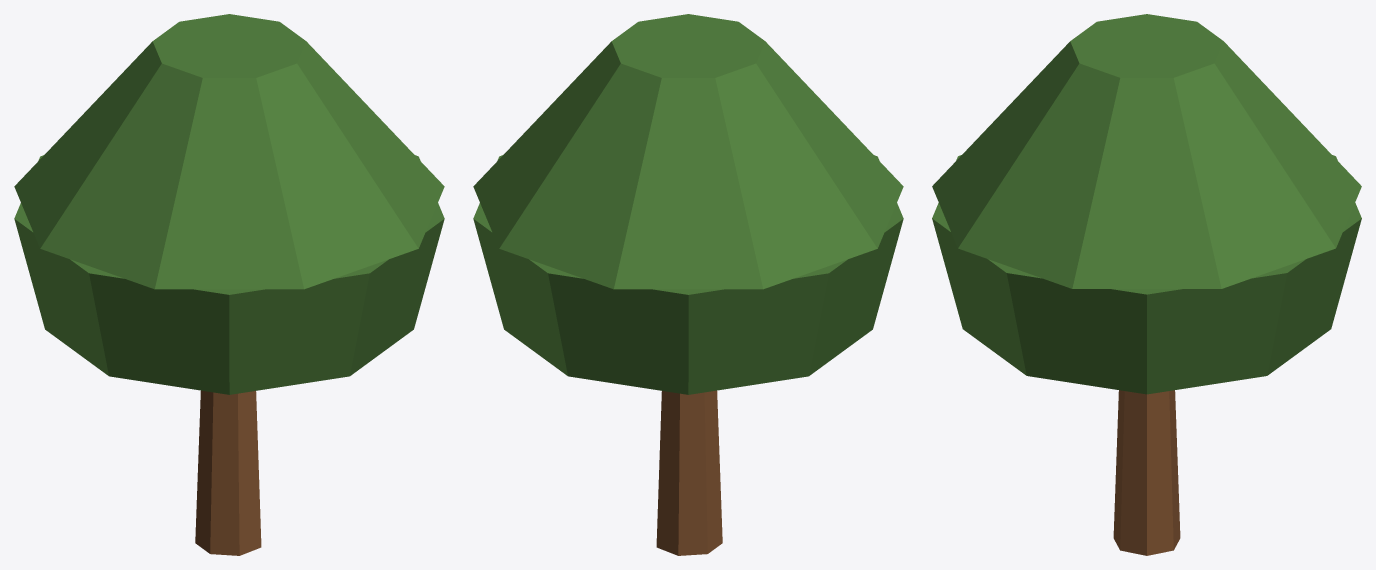
File: oak.glb
3 views of the same model, side by side, from view 1: azimuth 30°, elevation 25°; view 2: azimuth 150°, elevation 25°; view 3: azimuth 270°, elevation 25° (orthographic).
Visible parts, largest first — view 1: oak; view 2: oak; view 3: oak.
Part boxes in pixels (x1=…): oak: x1=14, y1=14, x2=444, y2=555; oak: x1=473, y1=14, x2=903, y2=555; oak: x1=932, y1=14, x2=1361, y2=555.
Bounding box in the file's own units: 2.8 × 3.5 × 2.76.
